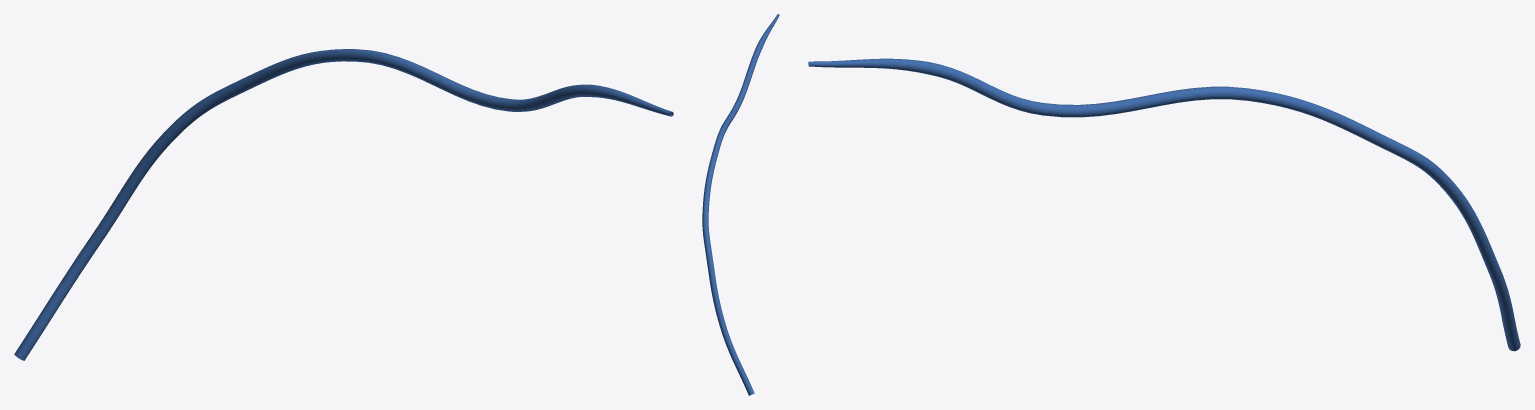
3 renders of one model, left to right at view 1: azimuth 30°, elevation 25°; view 2: azimuth 150°, elevation 25°; view 3: azimuth 270°, elevation 25°, orthographic. The views are drawn at different scales.
Visible parts, largest first — view 1: 左侧耳后静脉; view 2: 左侧耳后静脉; view 3: 左侧耳后静脉.
Boxes of the visible parts, x1,y1,x2,y2 form: 左侧耳后静脉: [14, 49, 673, 360]; 左侧耳后静脉: [702, 14, 779, 395]; 左侧耳后静脉: [808, 58, 1520, 351].
Size of the model in its own units: 0.0412 by 0.0558 by 0.083.
